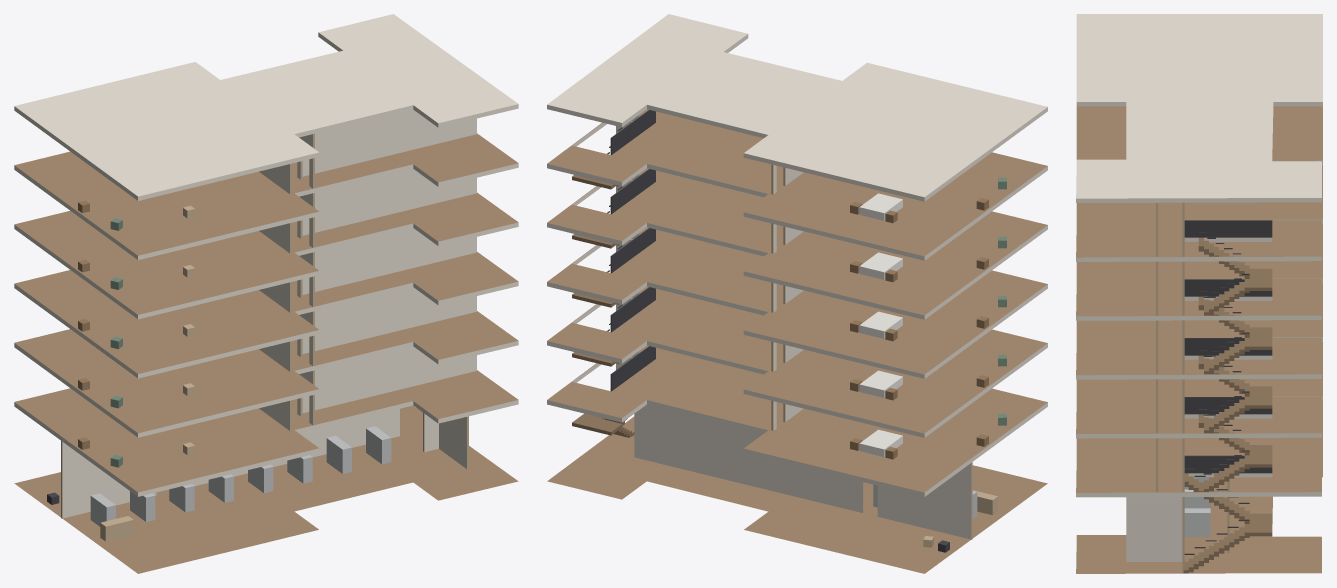
File: interior.glb
3 views of the same model, side by side, from view 1: azimuth 30°, elevation 25°; view 2: azimuth 150°, elevation 25°; view 3: azimuth 270°, elevation 25° (orthographic).
Parts seen in each view (by area): view 1: slabs, partitions, coarse-s0; view 2: slabs, partitions, stair, coarse-s5, coarse-s3, coarse-s2, coarse-s4, coarse-s1, coarse-s0; view 3: slabs, stair, partitions, coarse-s0.
Part boxes in pixels (box(x1,y1,x2,y2)): slabs: box(14, 14, 518, 573); partitions: box(61, 109, 476, 518); coarse-s0: box(47, 426, 391, 541); slabs: box(547, 14, 1047, 573); partitions: box(616, 112, 972, 539); stair: box(572, 110, 655, 437); coarse-s5: box(850, 177, 1006, 223); coarse-s3: box(850, 296, 1006, 341); coarse-s2: box(850, 355, 1006, 400); coarse-s4: box(850, 236, 1006, 282); coarse-s1: box(850, 414, 1006, 459); coarse-s0: box(873, 484, 998, 552); slabs: box(1076, 14, 1322, 573); stair: box(1183, 220, 1272, 573); partitions: box(1126, 202, 1229, 573); coarse-s0: box(1184, 477, 1210, 536).
Bounding box in the file's own units: 23.22 × 22.02 × 13.12.
